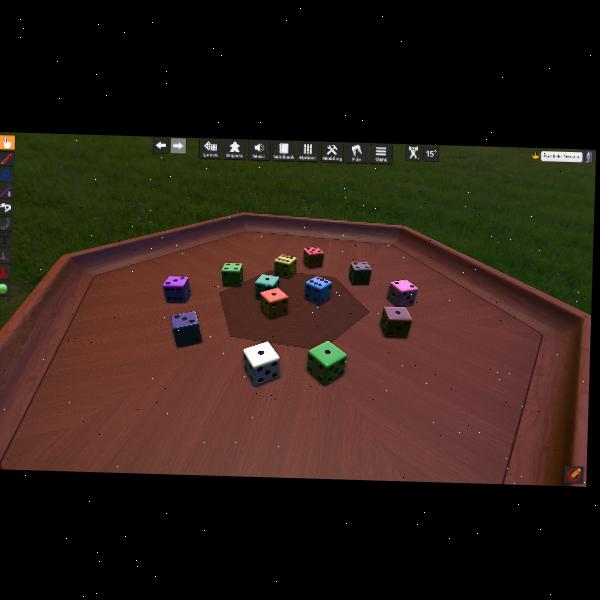d6: (242, 339, 283, 387), (306, 340, 345, 386), (170, 310, 203, 348), (380, 306, 412, 338), (258, 287, 288, 320), (387, 278, 417, 307), (162, 274, 191, 303), (304, 275, 331, 305), (255, 274, 281, 301), (347, 261, 371, 285), (220, 262, 242, 286), (274, 254, 295, 279), (303, 246, 322, 269)
